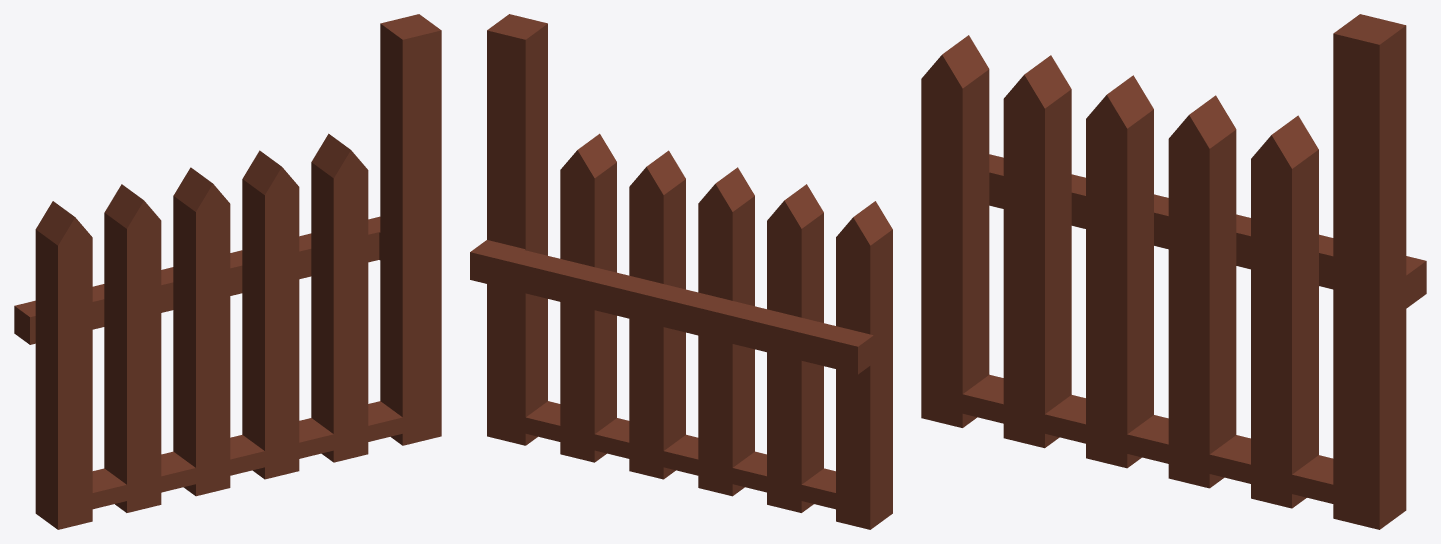
Rendered from Picket fence end.fbx.
3 renders of one model, left to right at view 1: azimuth 30°, elevation 25°; view 2: azimuth 150°, elevation 25°; view 3: azimuth 330°, elevation 25°, orthographic. The views are drawn at different scales.
Visible parts, largest first — view 1: Picket fence end; view 2: Picket fence end; view 3: Picket fence end.
Boxes of the visible parts, left/top/right/bottom form: Picket fence end: left=14, top=14, right=441, bottom=529; Picket fence end: left=470, top=14, right=892, bottom=529; Picket fence end: left=921, top=14, right=1426, bottom=529.
Bounding box in the file's own units: 100 × 100 × 17.5.
